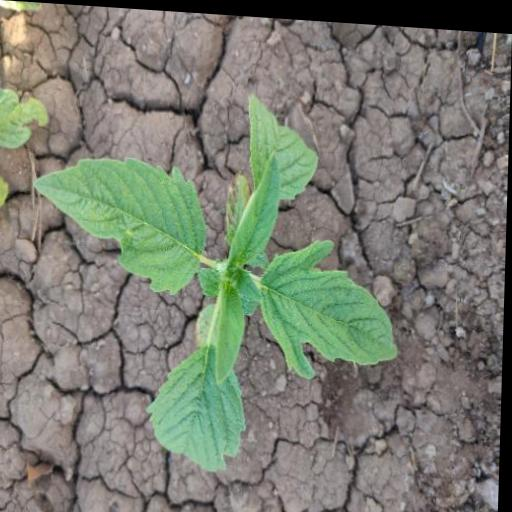crop: (21, 73, 429, 470)
